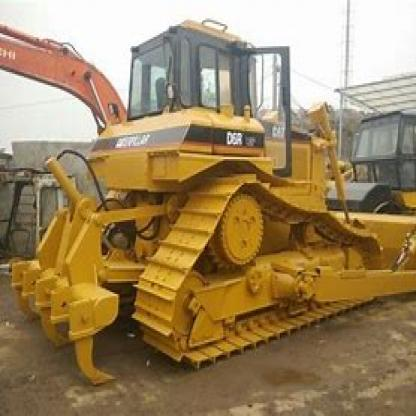bull_dozer/loader/grader: (18, 13, 414, 385)
